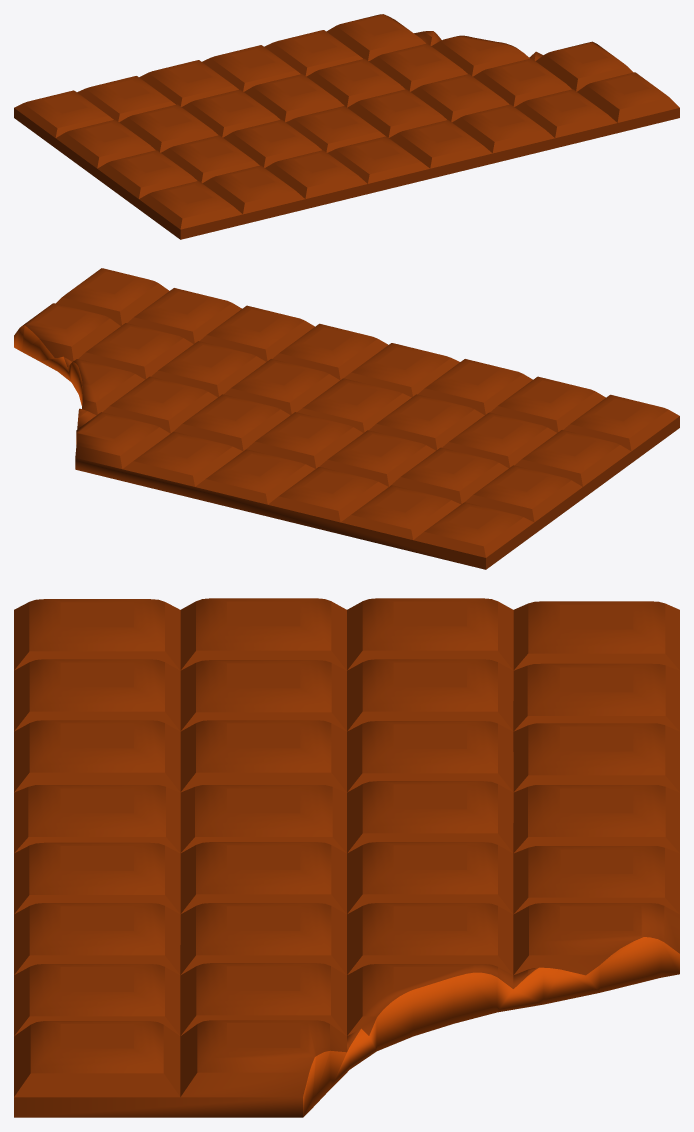
Rendered from All at one food 3.fbx_Collection_3.fbx.
The picture shows the model from 3 angles, top to bottom: view 1: azimuth 30°, elevation 25°; view 2: azimuth 150°, elevation 25°; view 3: azimuth 270°, elevation 25°; orthographic projection. The views are drawn at different scales.
Visible parts, largest first — view 1: 2. first bite; view 2: 2. first bite; view 3: 2. first bite.
Boxes of the visible parts, left/top/right/bottom form: 2. first bite: left=14, top=14, right=679, bottom=239; 2. first bite: left=14, top=268, right=679, bottom=569; 2. first bite: left=14, top=598, right=679, bottom=1117.
Bounding box in the file's own units: 45.87 × 2.27 × 26.49.
